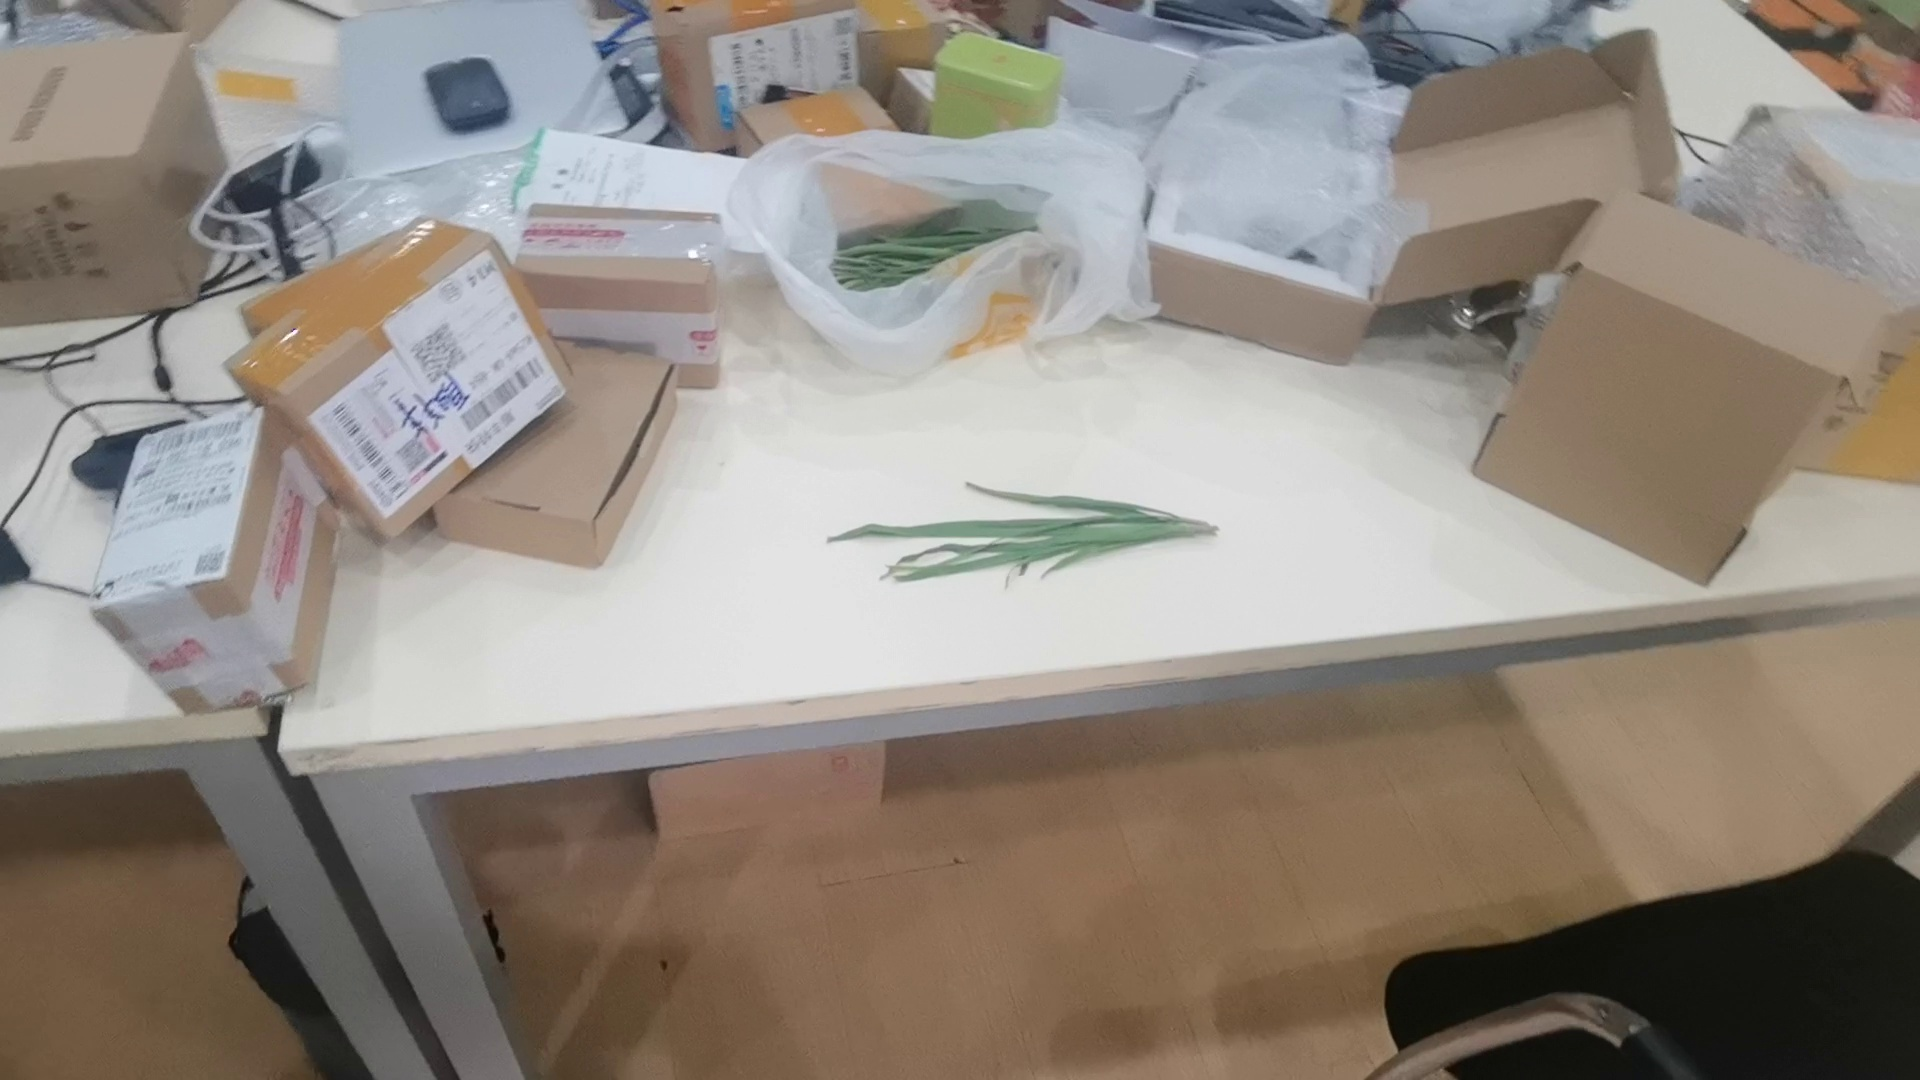chives: (819, 477, 1219, 590)
